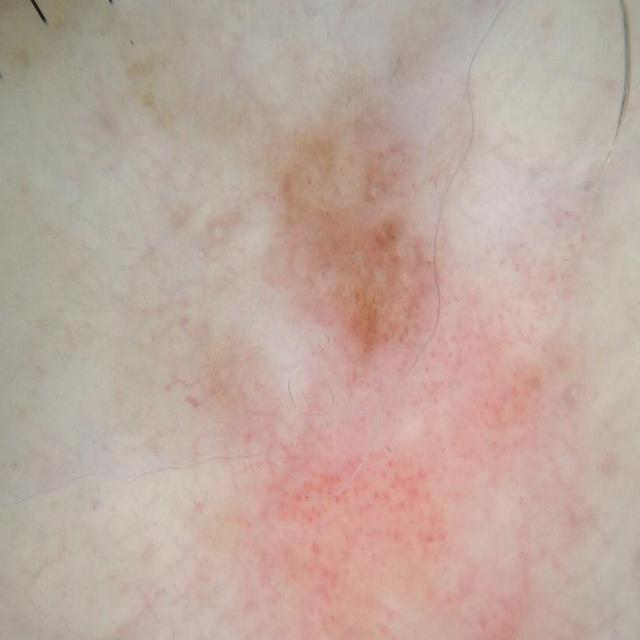Melanoma: (128, 116, 578, 640)
